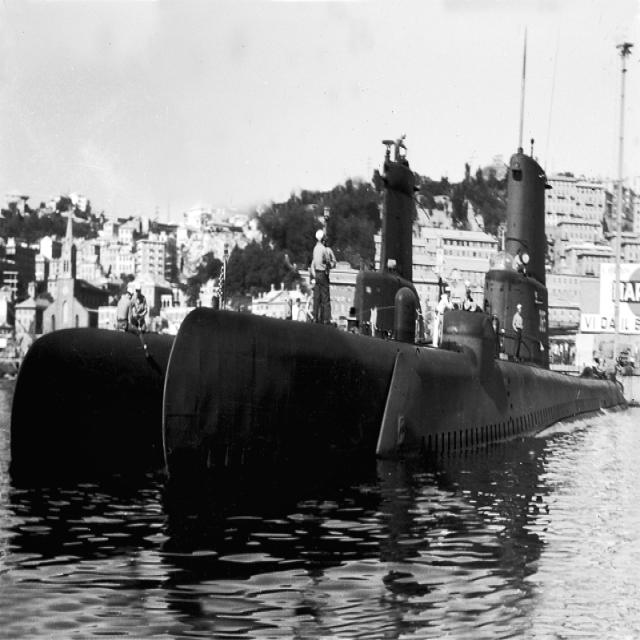submarine: (161, 150, 623, 505), (9, 162, 419, 487)
